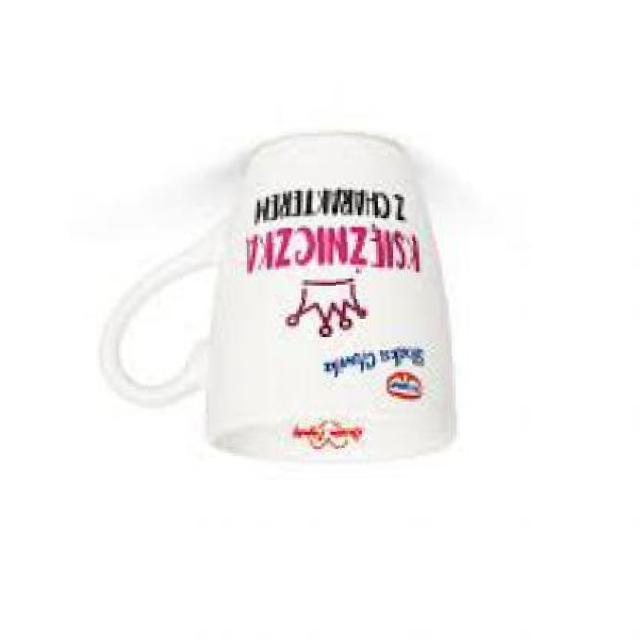cup: (91, 124, 468, 476)
